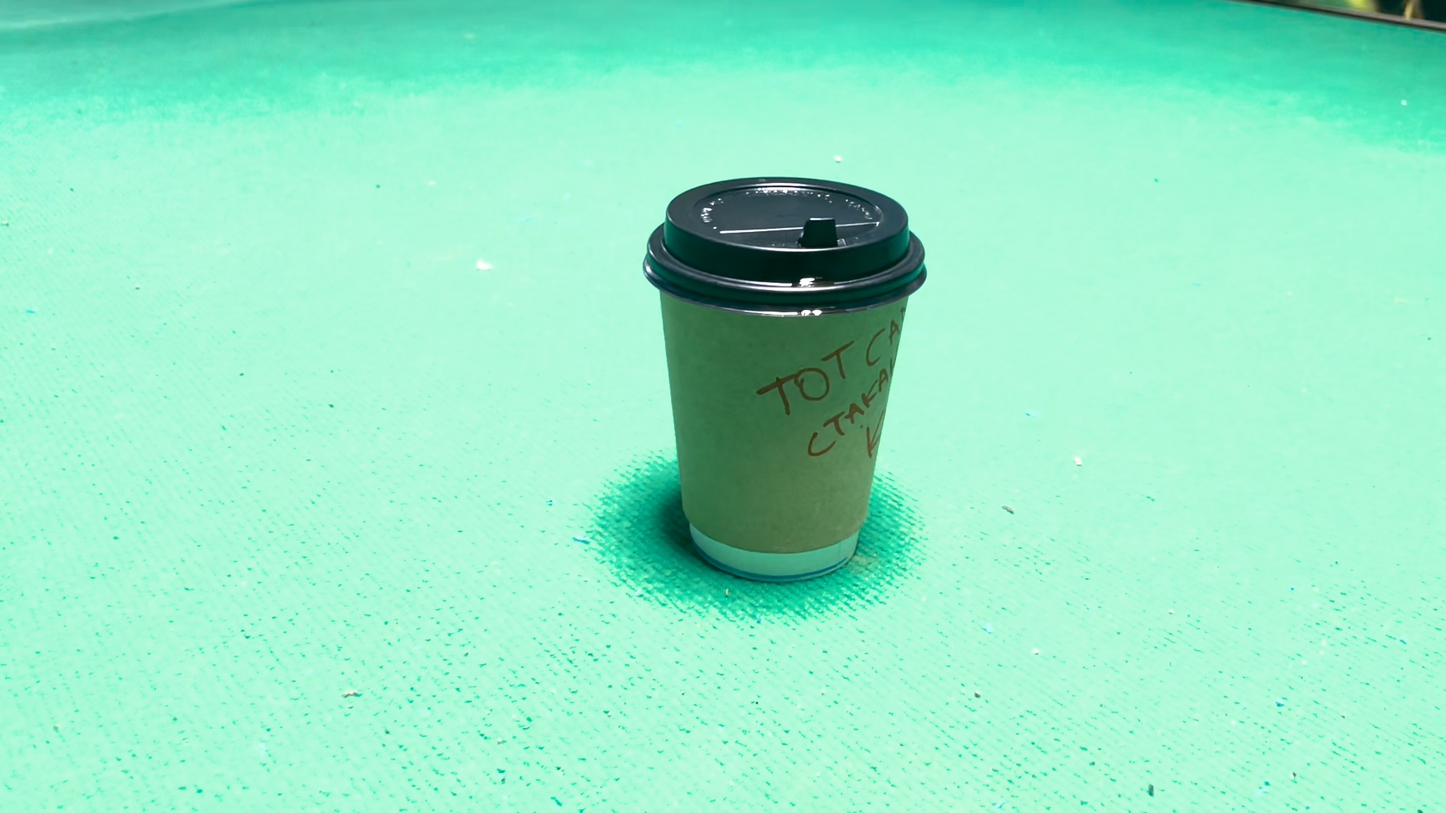cup: (728, 470, 832, 605)
